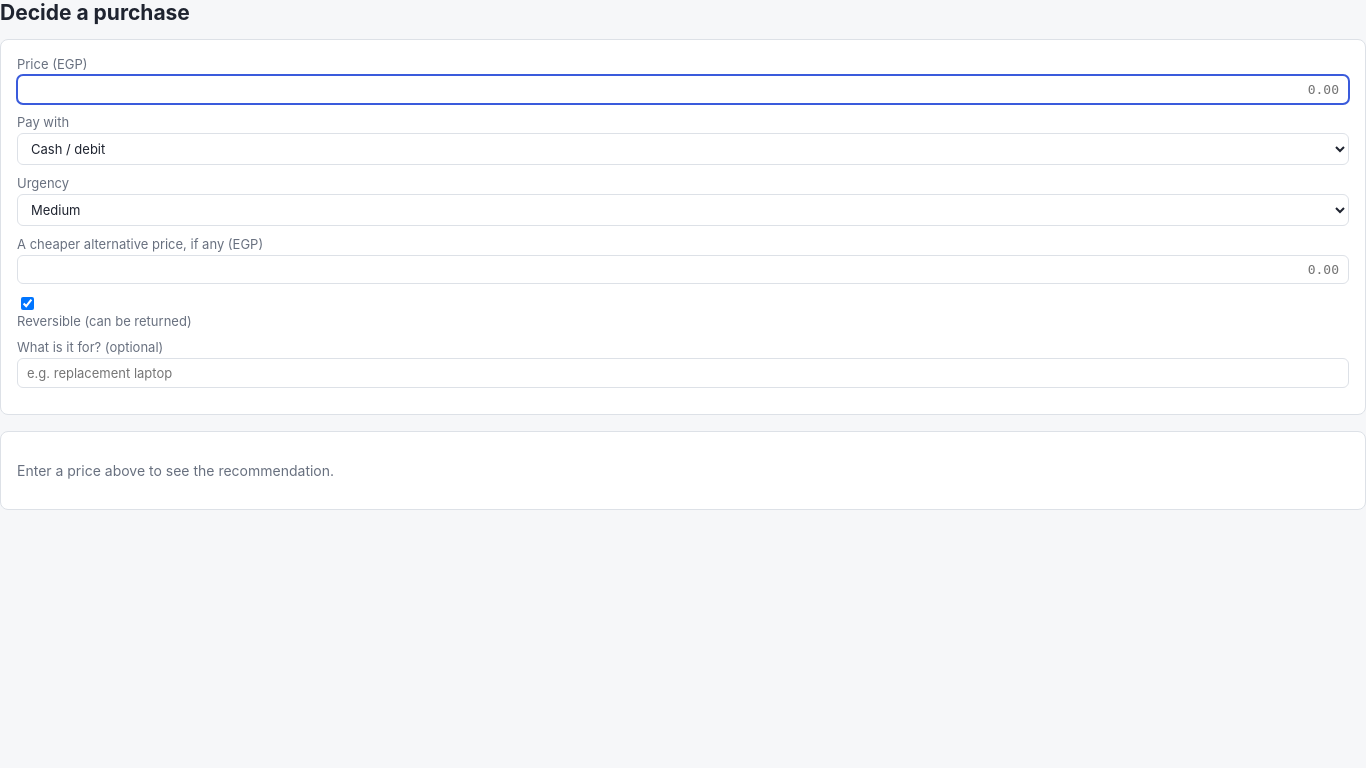
Scenario: DecideView › qualifies a purchase far beyond cash on hand rather than approving outright
Type "5000" into the field named "purchase price".
click(683, 90); type("5000")  # box [17, 75, 1349, 104]
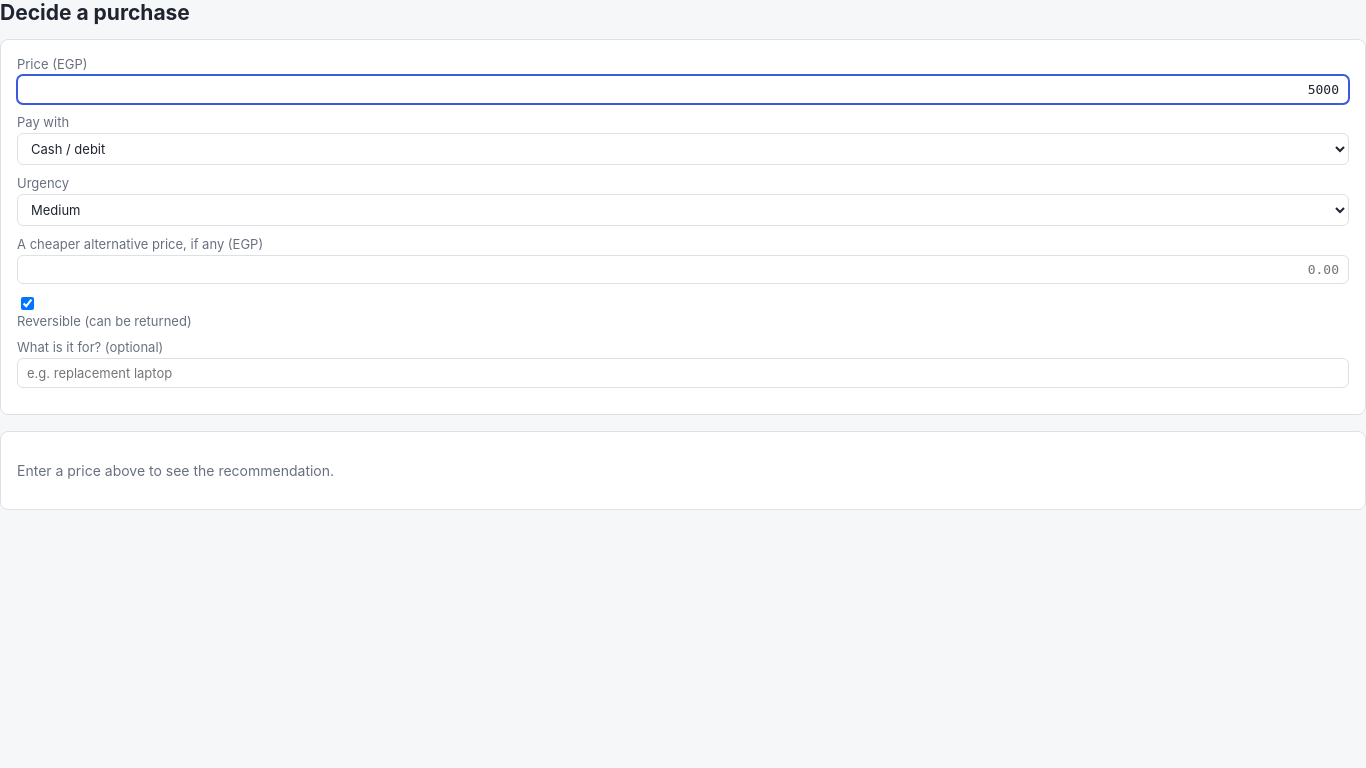
Leave the field named "purchase price", box [17, 75, 1349, 104]
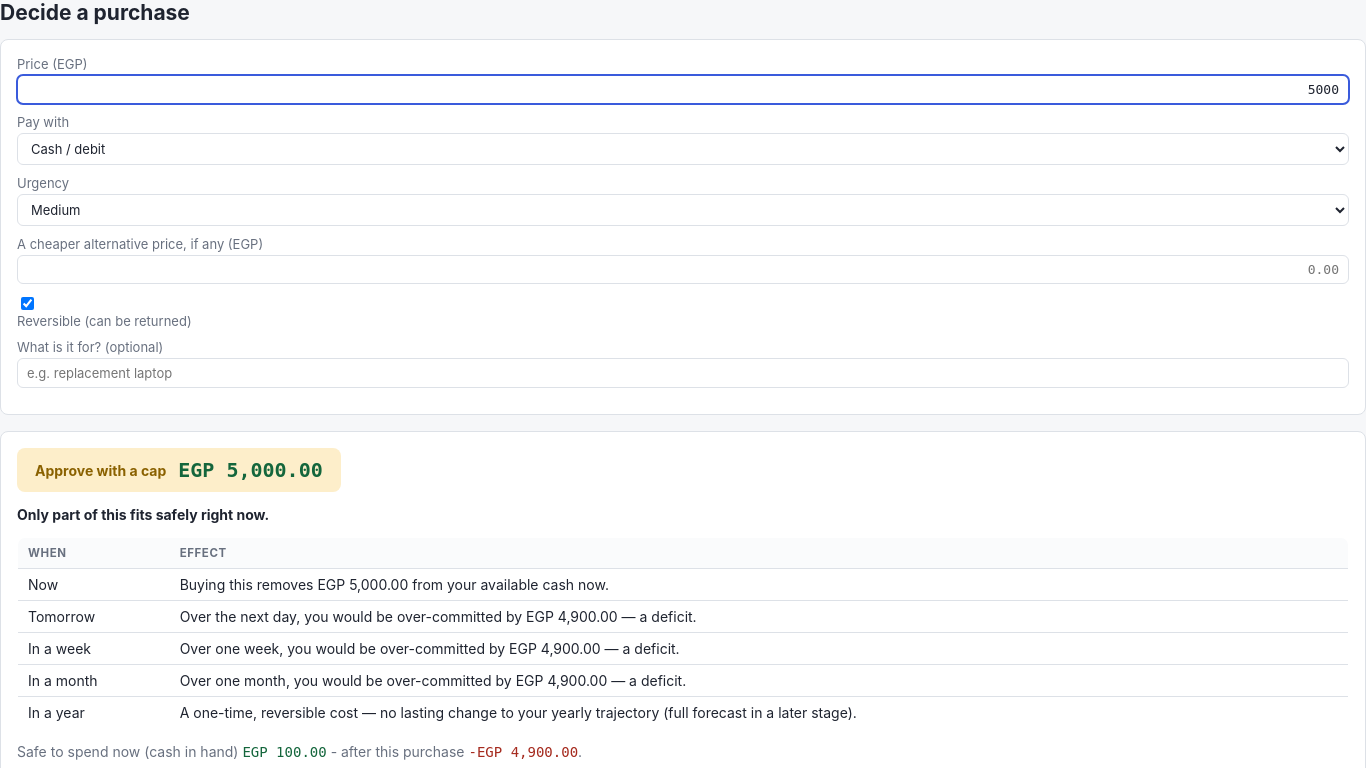
Expected: the message named "recommendation" reads "Approve with a cap EGP 5,000.00", [35, 462, 166, 478]
